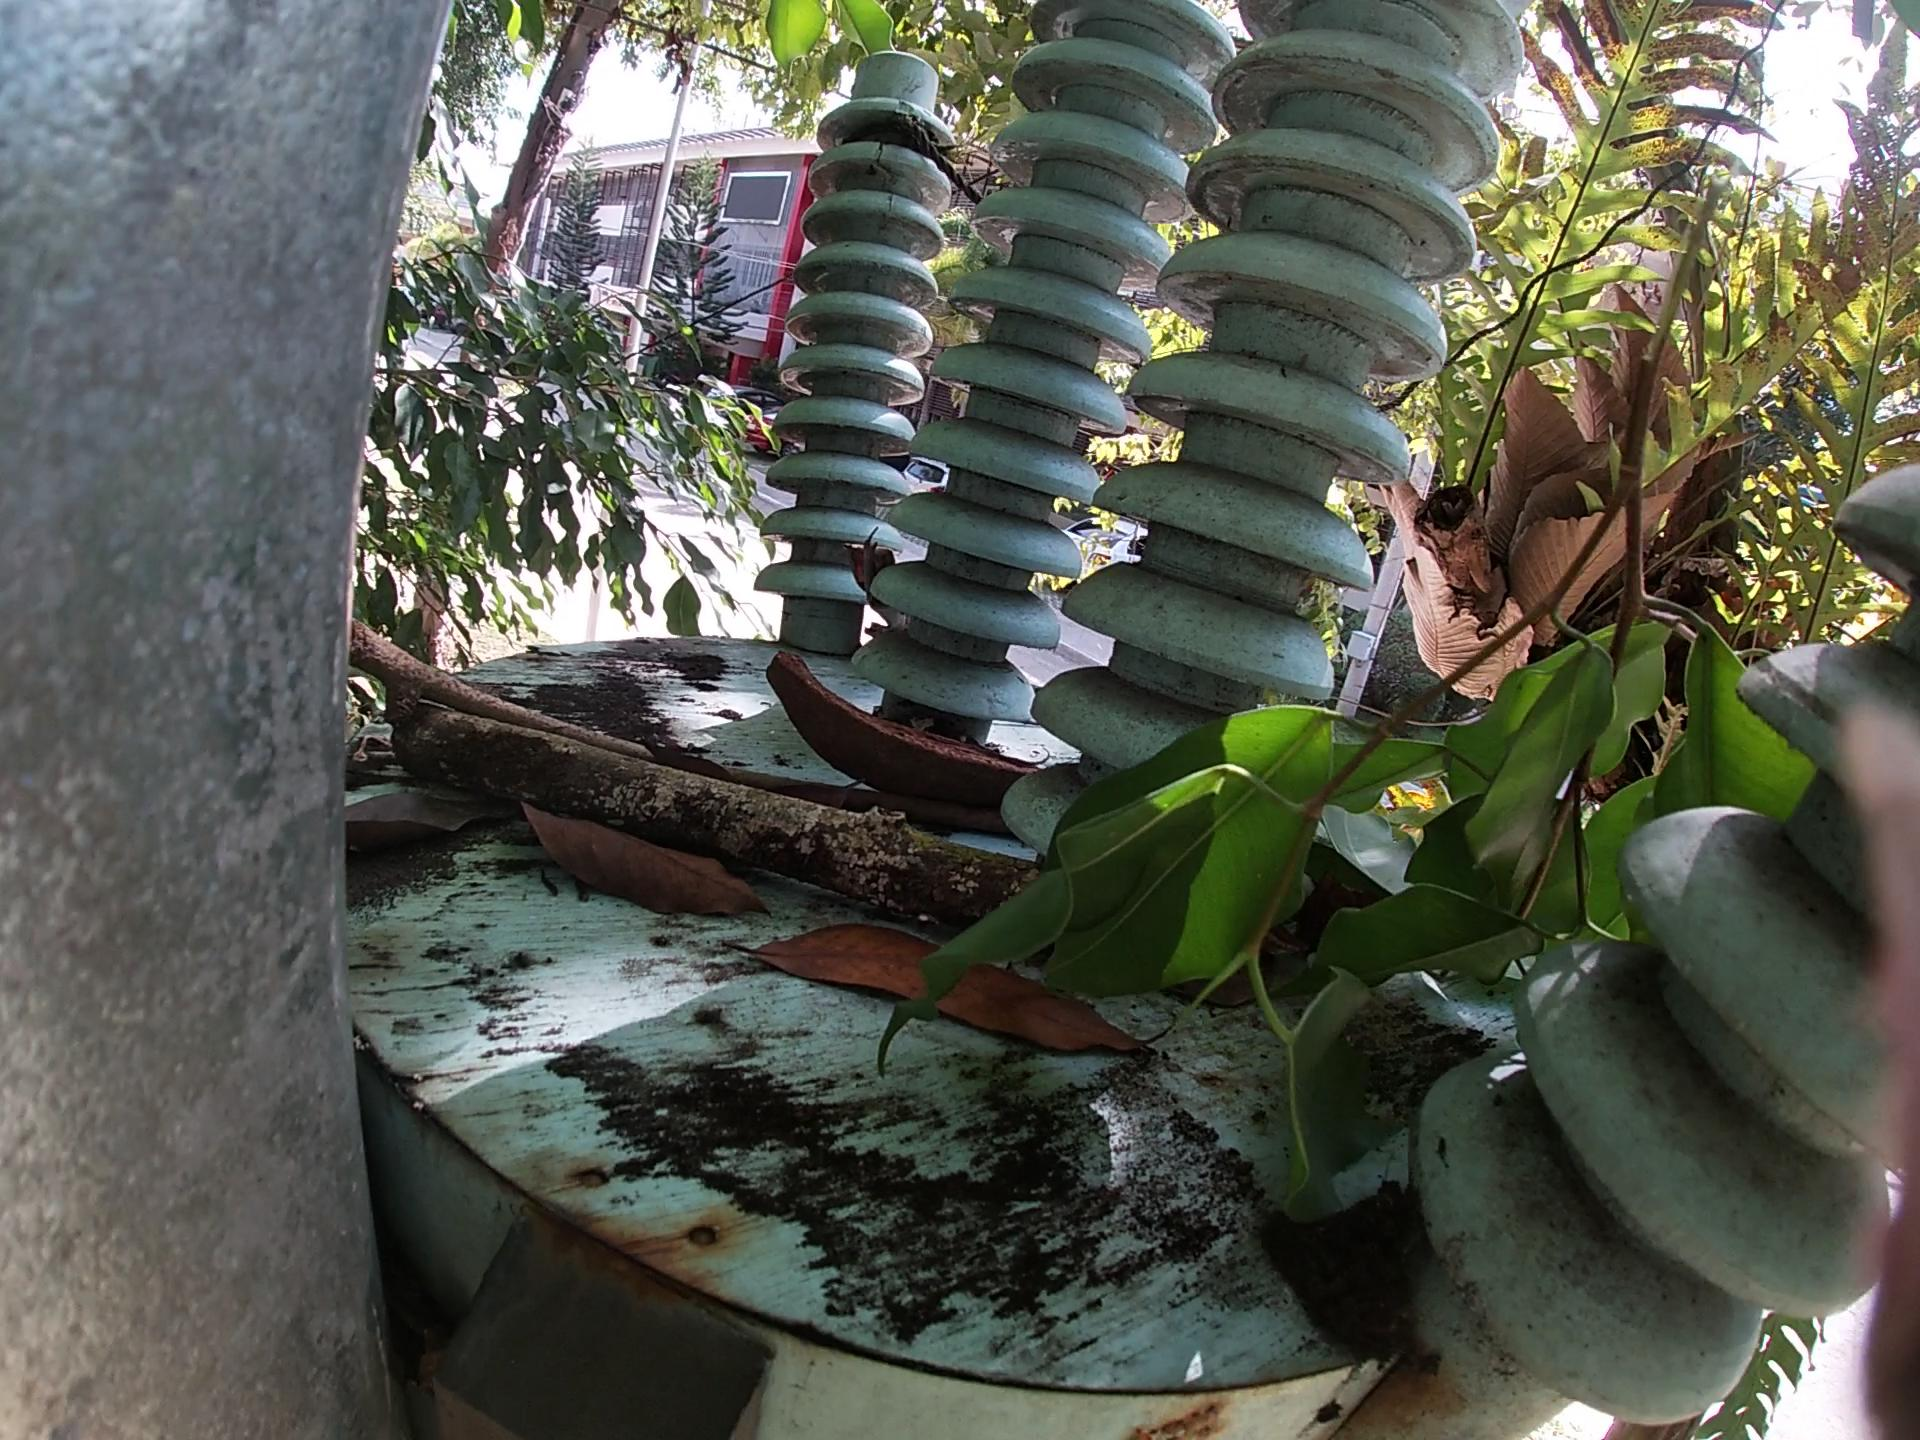branch with leaves: (948, 163, 1798, 1258)
leaf: (711, 926, 1197, 1097), (481, 790, 757, 930), (308, 790, 514, 846)
mahogany fruit: (754, 667, 1064, 838)
tree branch: (390, 709, 1116, 945), (337, 632, 856, 803)
